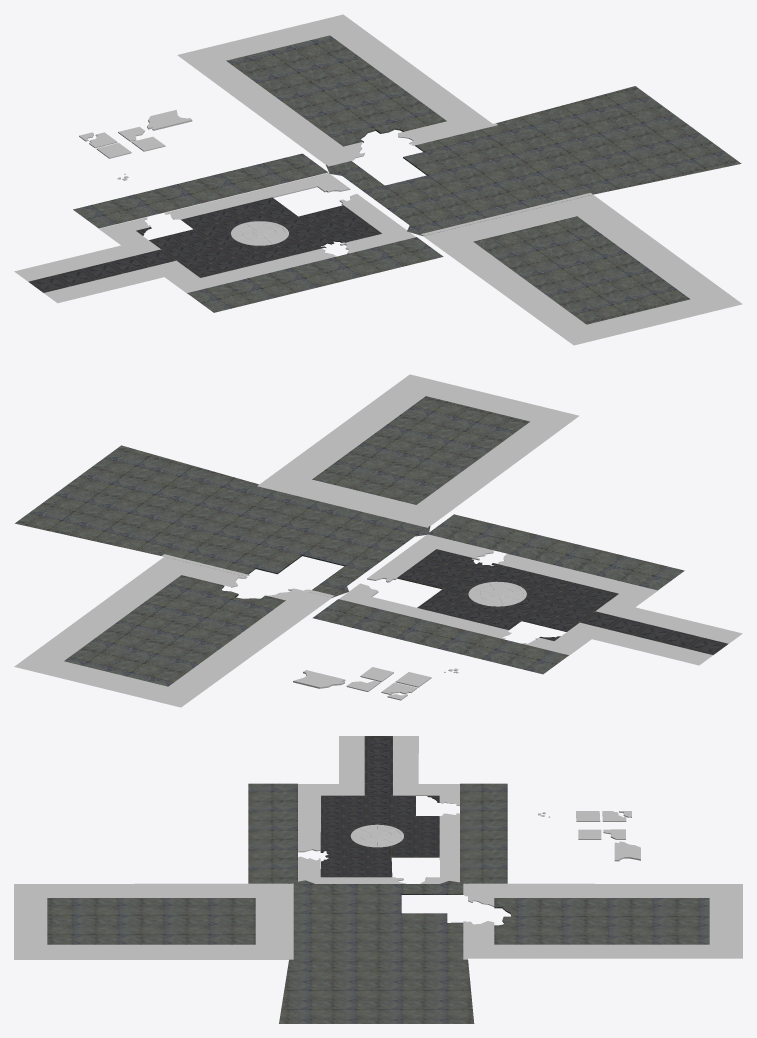
File: f_0000_floor_t4m.FBX
The picture shows the model from 3 angles, top to bottom: view 1: azimuth 30°, elevation 25°; view 2: azimuth 150°, elevation 25°; view 3: azimuth 270°, elevation 25°; orthographic projection. The views are drawn at different scales.
Visible parts, largest first — view 1: f_0000_floor_02, Object846, f_0000_floor_01, Object848, Object854; view 2: f_0000_floor_02, Object846, f_0000_floor_01, Object848, Object854; view 3: f_0000_floor_02, Object846, f_0000_floor_01, Object848.
Boxes of the visible parts, x1=… form: f_0000_floor_02: x1=73, y1=35, x2=741, y2=324; Object846: x1=14, y1=14, x2=742, y2=345; f_0000_floor_01: x1=28, y1=197, x2=381, y2=292; Object848: x1=231, y1=221, x2=288, y2=245; Object854: x1=147, y1=110, x2=192, y2=130; f_0000_floor_02: x1=15, y1=396, x2=684, y2=686; Object846: x1=14, y1=374, x2=742, y2=707; f_0000_floor_01: x1=397, y1=549, x2=728, y2=654; Object848: x1=468, y1=581, x2=526, y2=606; Object854: x1=293, y1=670, x2=345, y2=688; f_0000_floor_02: x1=47, y1=783, x2=709, y2=1023; Object846: x1=14, y1=736, x2=742, y2=959; f_0000_floor_01: x1=320, y1=736, x2=439, y2=877; Object848: x1=350, y1=824, x2=403, y2=847.
Size of the model in its own units: 11641 by 133 by 12281.
